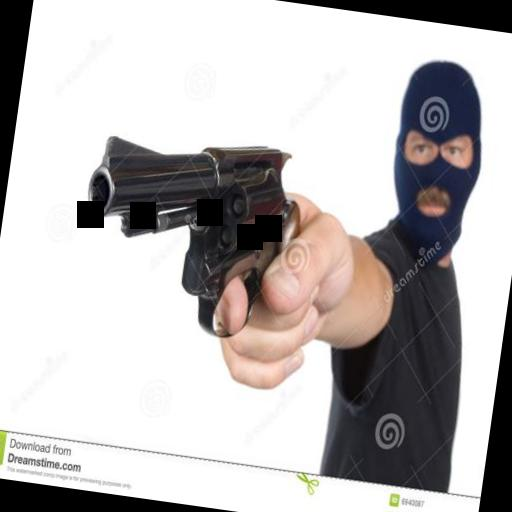Handgun: (68, 110, 318, 344)
